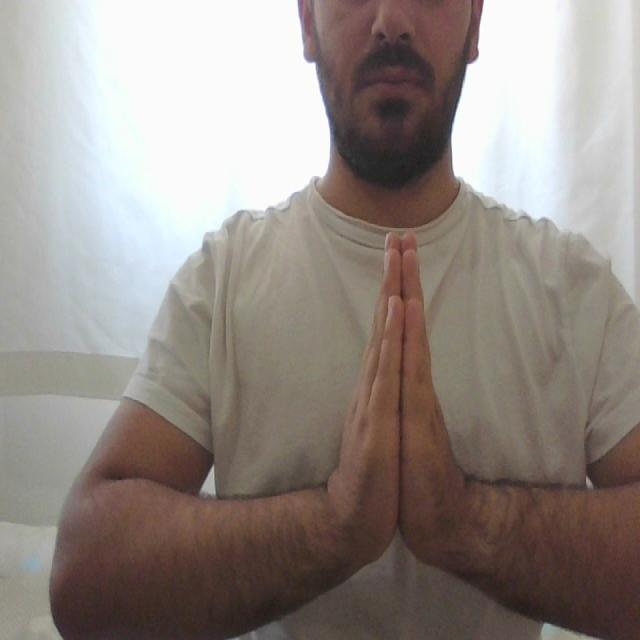Ozur-Dilemek: (317, 228, 482, 588)
